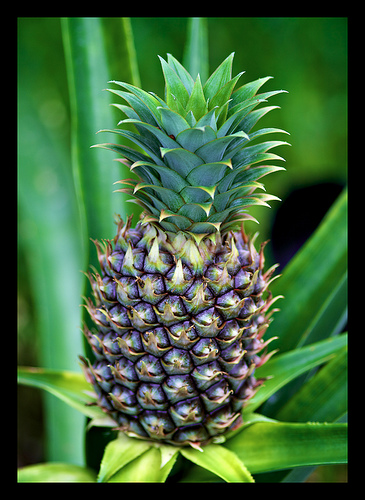pineapple: (1, 53, 347, 486)
